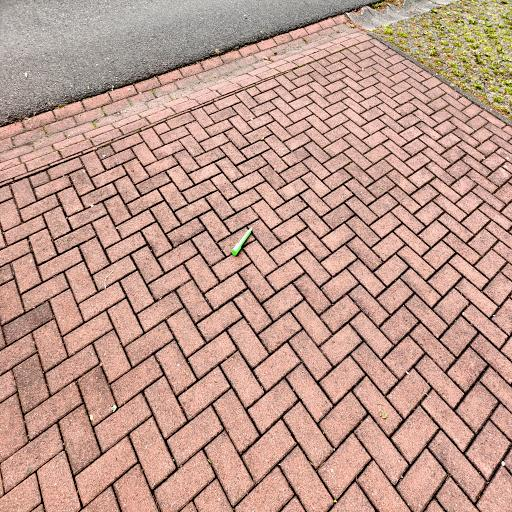Probe-Detection: (232, 228, 252, 256)
